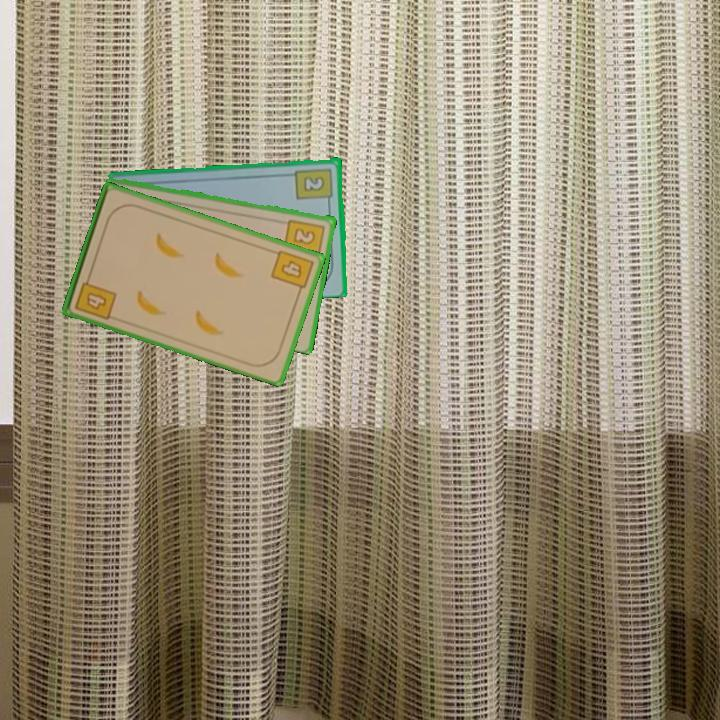2b: (281, 215, 328, 263), (292, 164, 336, 206)
4b: (267, 246, 316, 297), (71, 271, 119, 323)
